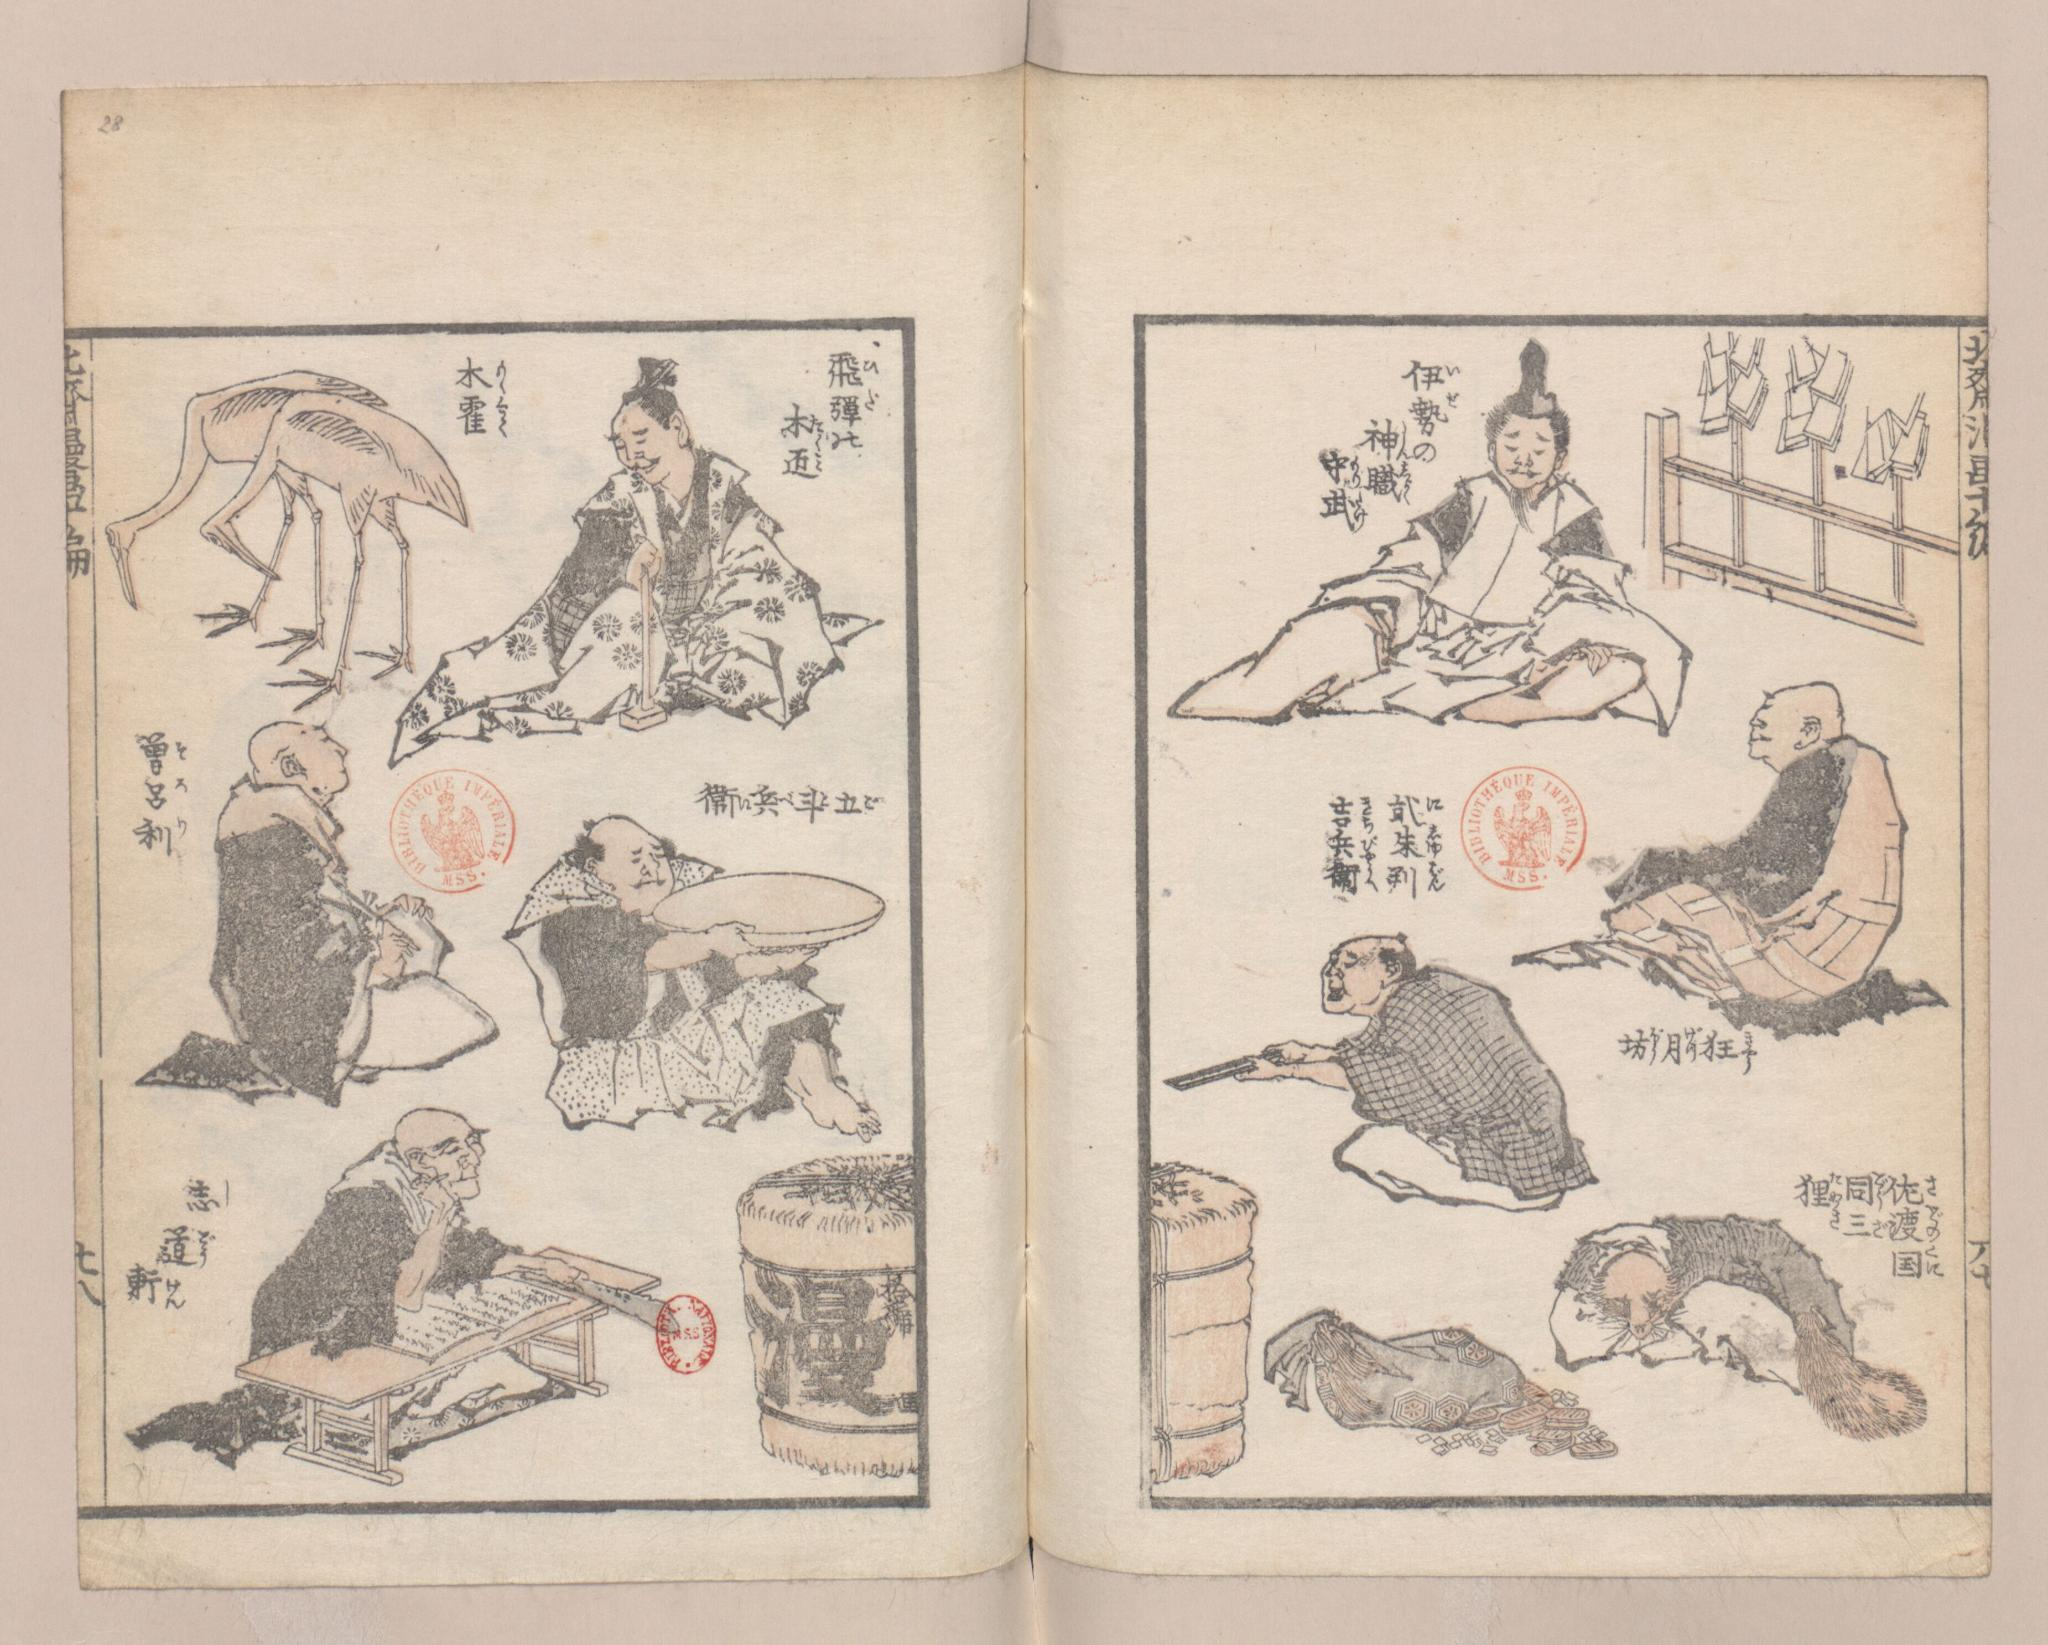MainZone-Character: (1796, 1168, 1843, 1235), (151, 1222, 218, 1267), (1702, 1029, 1763, 1079), (128, 728, 193, 772), (131, 814, 195, 858), (126, 1267, 188, 1311), (1314, 485, 1370, 534), (1889, 1242, 1947, 1286), (453, 396, 514, 438), (1408, 389, 1462, 436), (453, 356, 515, 396), (1388, 859, 1450, 900), (1889, 1202, 1947, 1240), (826, 389, 881, 430), (697, 779, 747, 822), (1365, 460, 1417, 502), (178, 1173, 237, 1210), (1613, 1024, 1667, 1064), (781, 435, 829, 477), (1326, 859, 1380, 896), (1326, 792, 1380, 829), (1405, 358, 1462, 391), (826, 349, 881, 383), (1360, 421, 1408, 458), (1387, 791, 1442, 822), (1388, 826, 1444, 858), (1887, 1168, 1939, 1202), (1326, 831, 1383, 861), (834, 784, 888, 816), (138, 775, 188, 809), (796, 782, 836, 822), (1845, 1170, 1885, 1210), (1665, 1024, 1701, 1069), (750, 782, 794, 817), (1319, 452, 1365, 485), (781, 406, 826, 436), (1847, 1212, 1887, 1239)
MainZone-Ruby: (1826, 1172, 1843, 1235), (163, 1272, 186, 1311), (196, 1229, 218, 1266), (1395, 458, 1413, 502), (1924, 1244, 1944, 1282), (1741, 1029, 1756, 1074), (1684, 1024, 1702, 1061), (1924, 1204, 1944, 1237), (494, 399, 512, 435), (811, 436, 829, 472), (1360, 792, 1377, 831), (1648, 1027, 1665, 1064), (1351, 493, 1368, 529), (1424, 824, 1444, 853), (1358, 831, 1378, 859), (1872, 1170, 1887, 1207), (1425, 863, 1445, 890), (494, 358, 510, 389), (1395, 421, 1410, 457), (1363, 863, 1380, 893), (859, 791, 880, 814), (776, 787, 796, 809), (171, 737, 188, 762), (1425, 791, 1440, 817), (861, 351, 878, 374), (734, 791, 749, 816), (1444, 359, 1464, 378), (1350, 458, 1363, 485), (818, 787, 833, 811), (863, 391, 881, 410), (1444, 393, 1462, 411), (1924, 1170, 1937, 1195), (220, 1177, 232, 1204), (1872, 1215, 1885, 1239), (175, 816, 190, 834), (175, 777, 190, 792), (809, 416, 824, 430)
